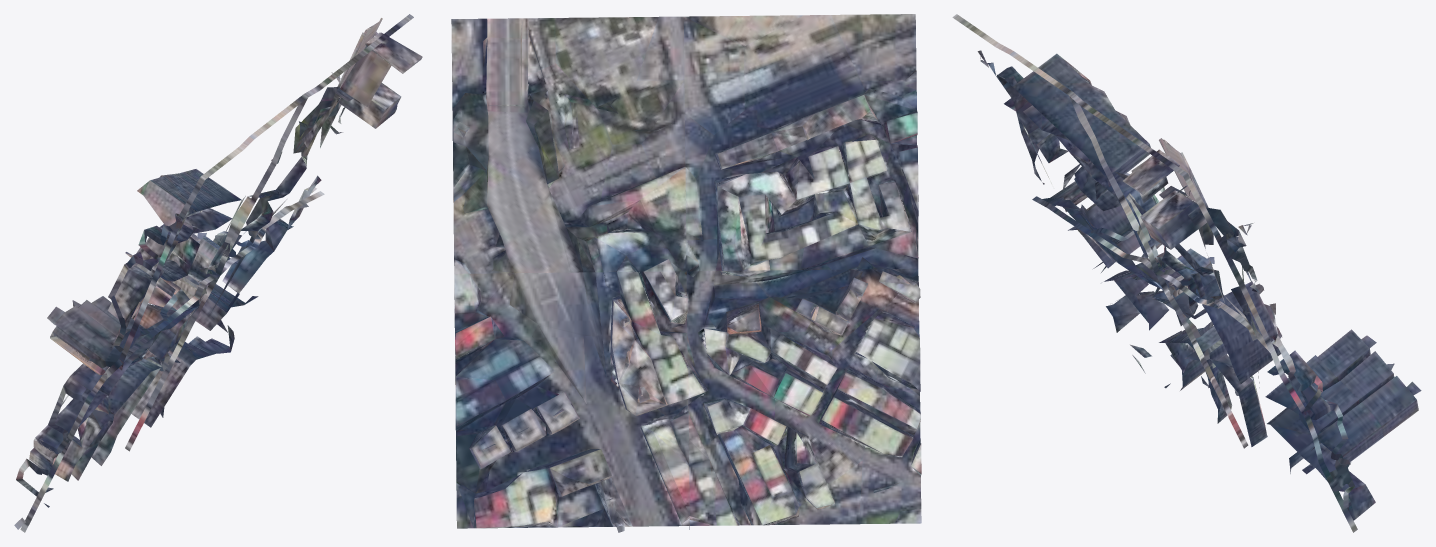
3 renders of one model, left to right at view 1: azimuth 30°, elevation 25°; view 2: azimuth 150°, elevation 25°; view 3: azimuth 270°, elevation 25°, orthographic. The views are drawn at different scales.
Size of the model in its own units: 308 by 283 by 295.
Materials: 1 (1 with a texture image).
